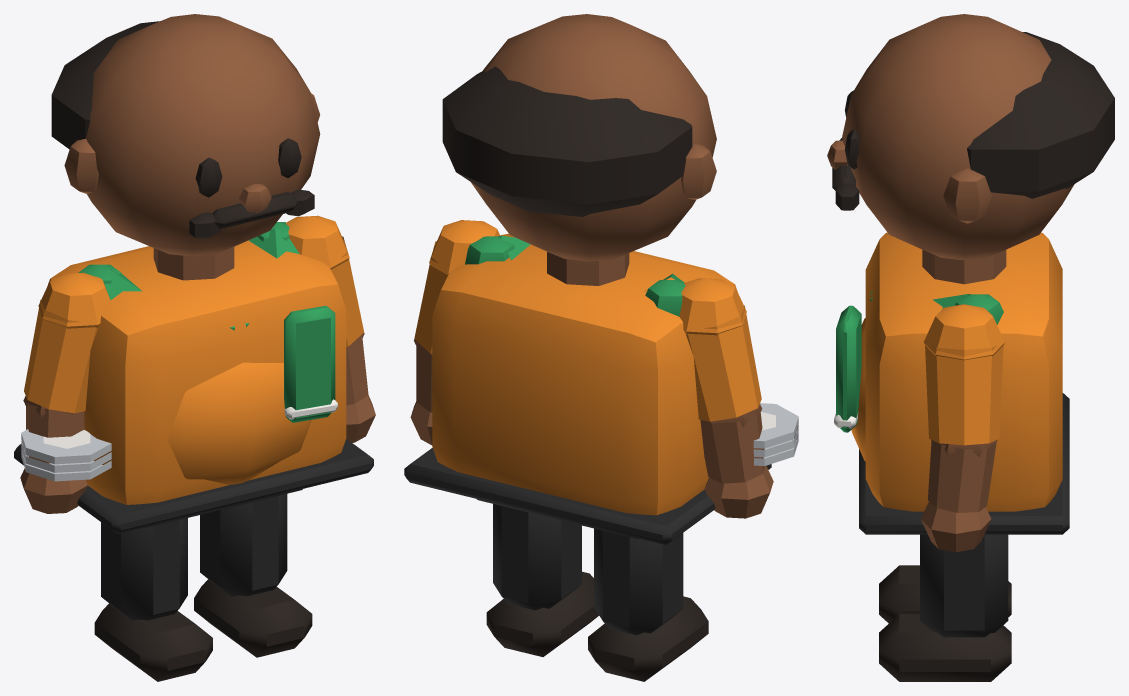
Rendered from kallu.glb.
The picture shows the model from 3 angles, left to right: view 1: azimuth 30°, elevation 25°; view 2: azimuth 150°, elevation 25°; view 3: azimuth 270°, elevation 25°; orthographic projection. The views are drawn at different scales.
Visible parts, largest first — view 1: body, head, arm_r, leg_r, leg_l, arm_l; view 2: body, head, arm_r, leg_r, leg_l, arm_l; view 3: head, body, arm_l, leg_l, leg_r.
Part boxes in pixels (left/top/right/bottom): body: left=14, top=222, right=373, bottom=533; head: left=51, top=14, right=320, bottom=256; arm_r: left=20, top=272, right=111, bottom=513; leg_r: left=94, top=518, right=212, bottom=681; leg_l: left=194, top=494, right=312, bottom=657; arm_l: left=285, top=215, right=375, bottom=442; body: left=404, top=233, right=771, bottom=544; head: left=442, top=14, right=716, bottom=261; arm_r: left=679, top=278, right=798, bottom=518; leg_r: left=588, top=528, right=708, bottom=681; leg_l: left=486, top=504, right=598, bottom=656; arm_l: left=410, top=220, right=500, bottom=445; head: left=827, top=14, right=1114, bottom=260; body: left=834, top=232, right=1069, bottom=534; arm_l: left=921, top=304, right=1004, bottom=552; leg_l: left=879, top=534, right=1011, bottom=681; leg_r: left=879, top=565, right=1011, bottom=623.
Bounding box in the file's own units: 0.6283 × 1.03 × 0.4322.
Materials: 1 (1 with a texture image).
